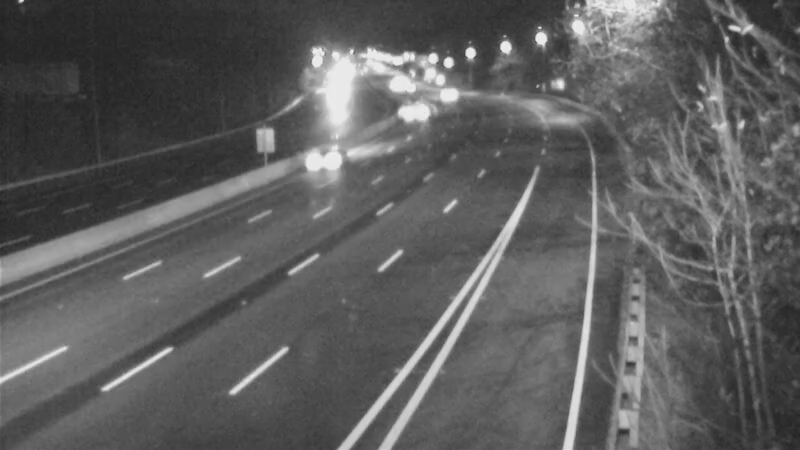vehicle: (289, 121, 369, 201), (392, 63, 442, 113), (426, 71, 476, 121), (393, 83, 443, 133)
